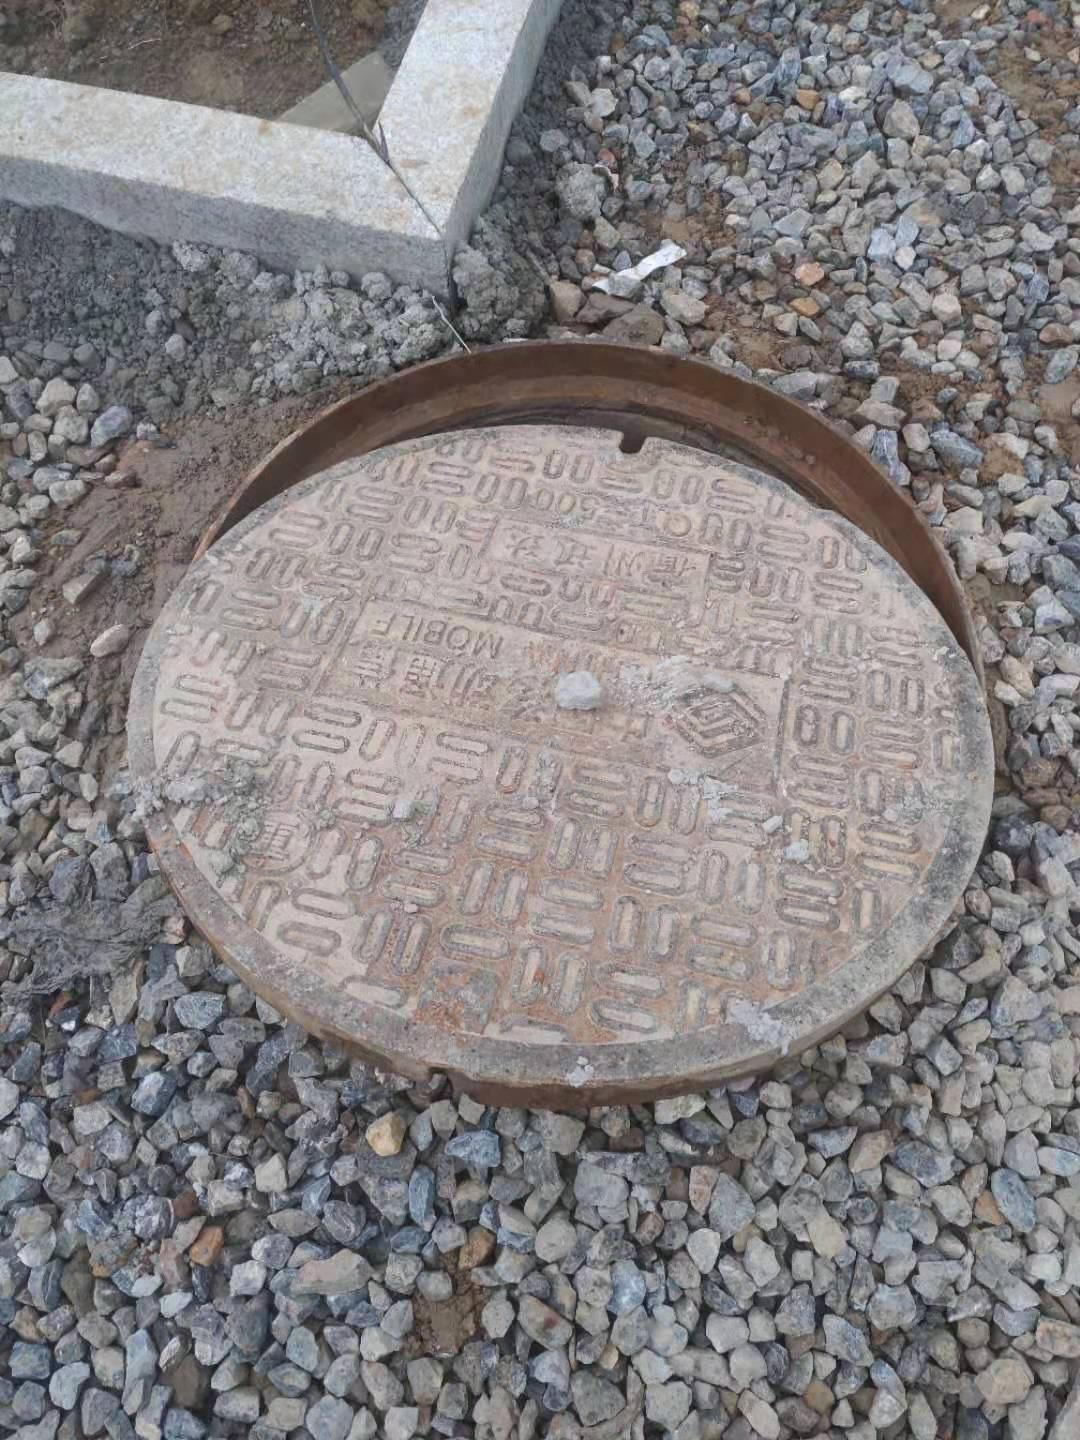wellcover: (128, 323, 1014, 1104)
